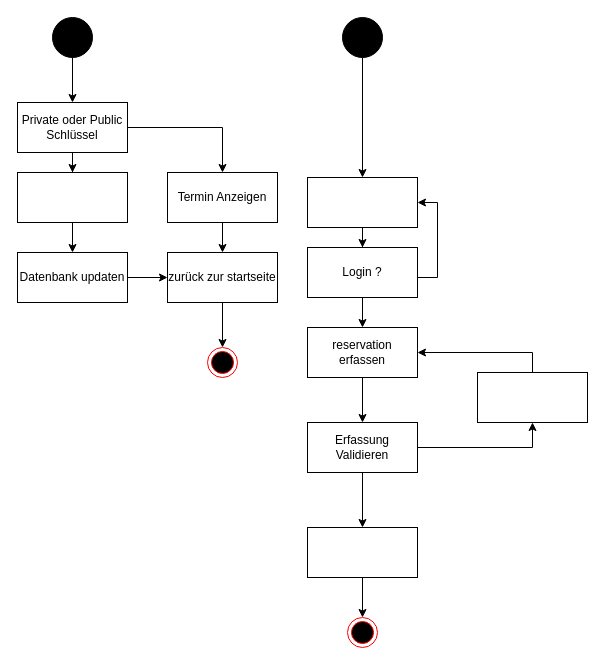
Image size: 605x665. Some labels were removed from this diagram. The box of each missing label's shape, as (x1, y1, x2, y2) in pixels:
Erfassung bestätigen: (306, 526, 418, 578)
Error Anzeigen: (476, 372, 588, 422)
Reservation: (306, 176, 418, 228)
Termin Bearbeiten: (16, 172, 128, 222)
